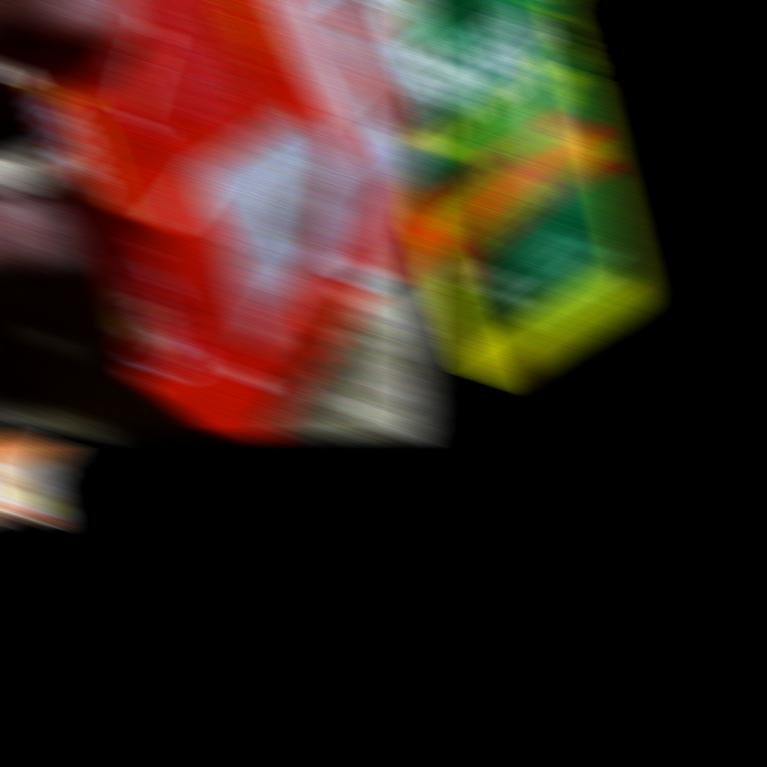Datu puti Suka: (413, 0, 646, 387)
lucky me cicken: (0, 0, 429, 439)
